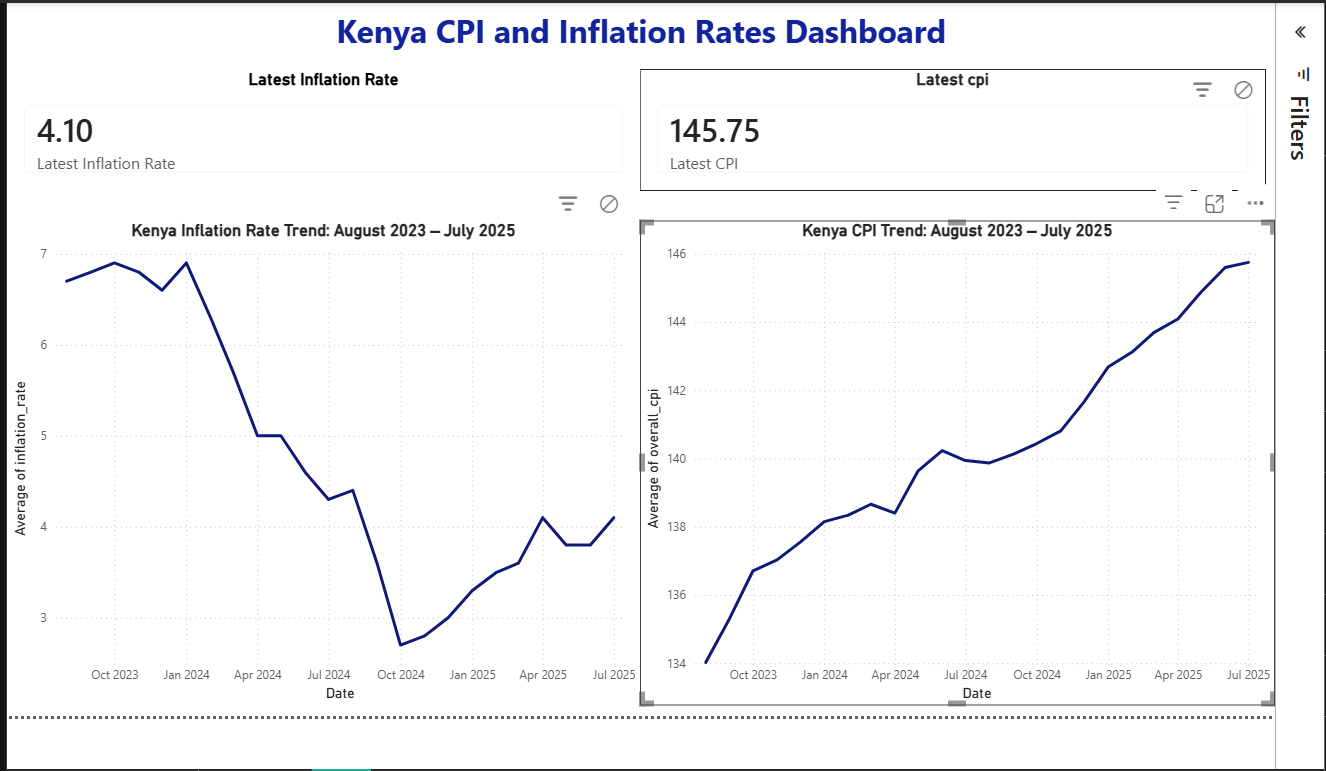

Layout of this report page (visuals, bound fields, positions):
{"tool":"powerbi","page":{"name":"Page 1","canvas":[1280,720],"ordinal":0},"visuals":[{"type":"lineChart","title":"Kenya CPI Trend: August 2023 – July 2025","fields":{"Y":["Avg(overall_cpi_inflation_clean.overall_cpi)"],"Category":["overall_cpi_inflation_clean.Date"]},"box":[639.2,219.6,640.9,489.6],"z":0},{"type":"lineChart","title":"Kenya Inflation Rate Trend: August 2023 – July 2025","fields":{"Y":["Avg(overall_cpi_inflation_clean.inflation_rate)"],"Category":["overall_cpi_inflation_clean.Date"]},"box":[0,219.6,639.2,489.6],"z":1},{"type":"cardVisual","title":"Latest cpi","fields":{"Data":["overall_cpi_inflation_clean.Latest CPI"]},"box":[639.2,66.7,631.1,122],"z":2},{"type":"cardVisual","title":"Latest Inflation Rate","fields":{"Data":["overall_cpi_inflation_clean.Latest Inflation Rate"]},"box":[0,66.7,639.2,122],"z":3},{"type":"textbox","title":"Kenya CPI and Inflation Dashboard","box":[0,0,1280.1,66.7],"z":4}]}

Visuals, with their boxes in screenshot pixels (x1, y1, x2, y2):
"Kenya CPI Trend: August 2023 – July 2025" lineChart: 633, 216, 1265, 699
"Kenya Inflation Rate Trend: August 2023 – July 2025" lineChart: 3, 216, 633, 699
"Latest cpi" cardVisual: 633, 66, 1255, 186
"Latest Inflation Rate" cardVisual: 3, 66, 633, 186
"Kenya CPI and Inflation Dashboard" textbox: 3, 0, 1265, 66
